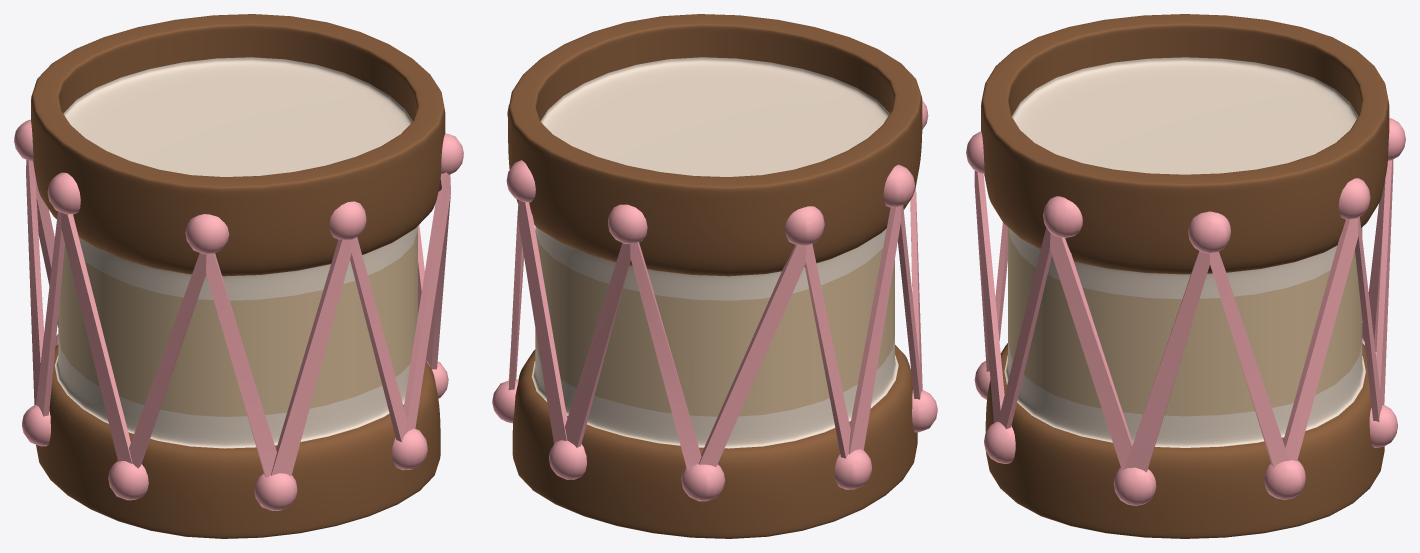
The model's file is dollu_interactable.fbx.
3 renders of one model, left to right at view 1: azimuth 30°, elevation 25°; view 2: azimuth 150°, elevation 25°; view 3: azimuth 270°, elevation 25°, orthographic.
Visible parts, largest first — view 1: dollu_interactable; view 2: dollu_interactable; view 3: dollu_interactable.
Part boxes in pixels (box(x1,y1,x2,y2)): dollu_interactable: box(14, 14, 463, 538); dollu_interactable: box(492, 14, 937, 538); dollu_interactable: box(966, 14, 1405, 538).
Bounding box in the file's own units: 120 × 106 × 118.
